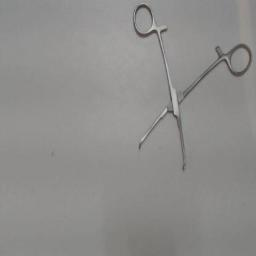Allis Tissue Forceps: (130, 0, 254, 174)
